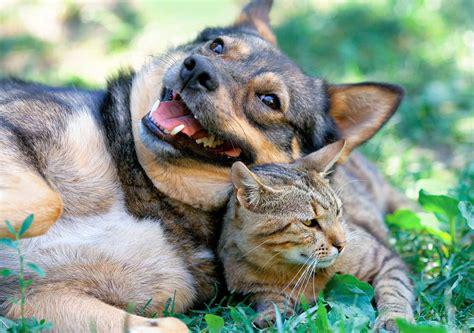cat: (223, 140, 413, 327)
dog: (1, 1, 402, 333)
